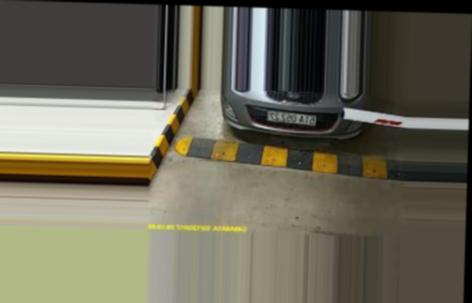License_Plate: (262, 110, 318, 130)
